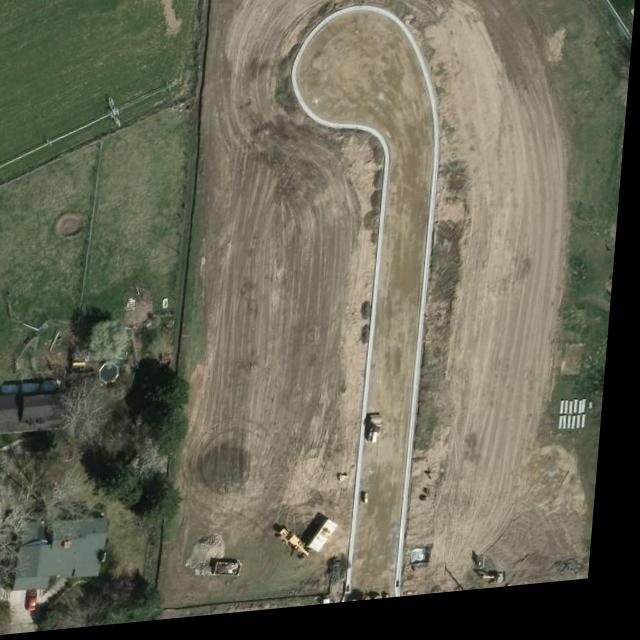vehicle: (36, 591, 48, 614)
